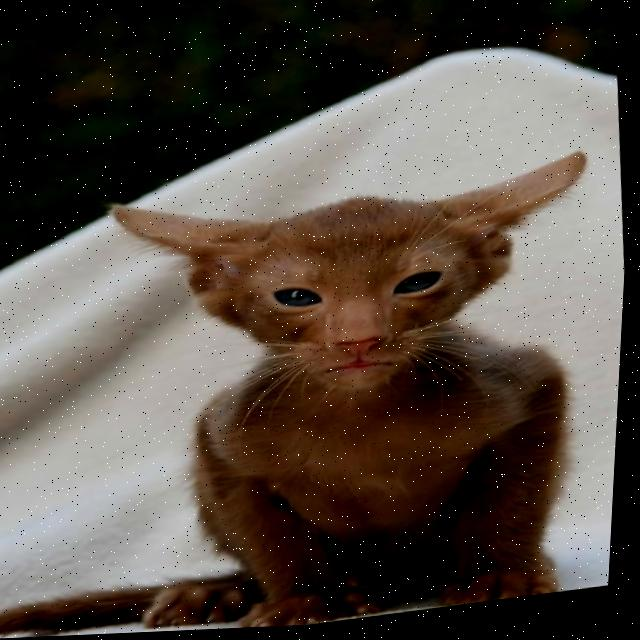Oriental: (0, 138, 630, 640)
